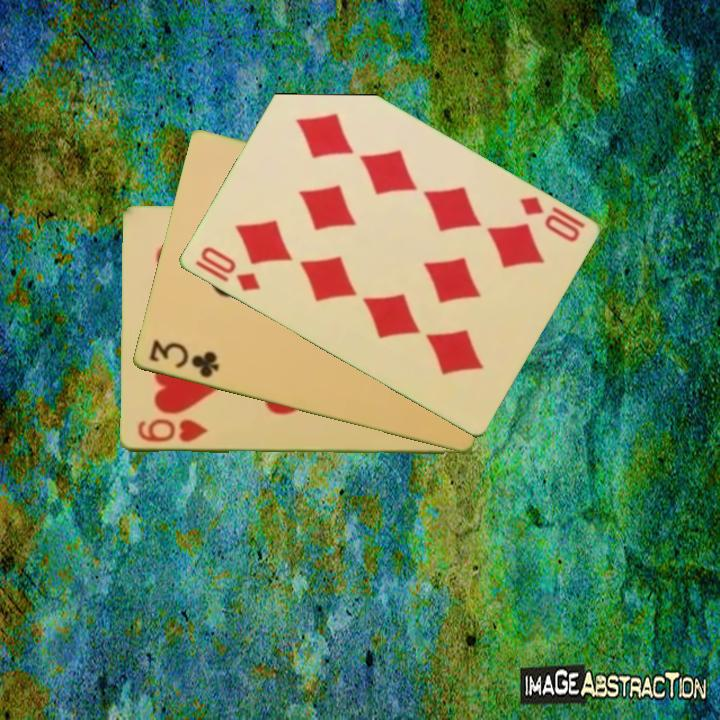10d: (515, 193, 587, 246), (196, 243, 263, 295)
3c: (145, 336, 222, 381)
6h: (134, 415, 210, 446)
